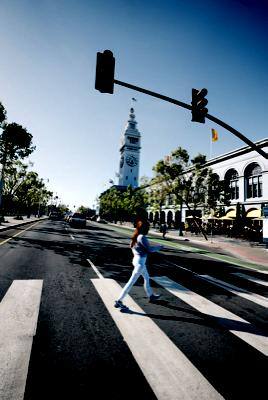International Road Signal Light: (94, 49, 116, 94), (190, 88, 208, 124)
